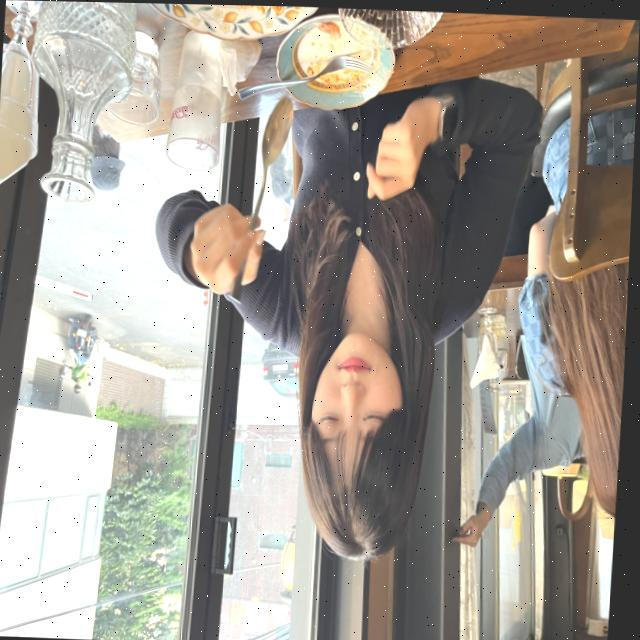eating-person: (127, 52, 550, 585)
